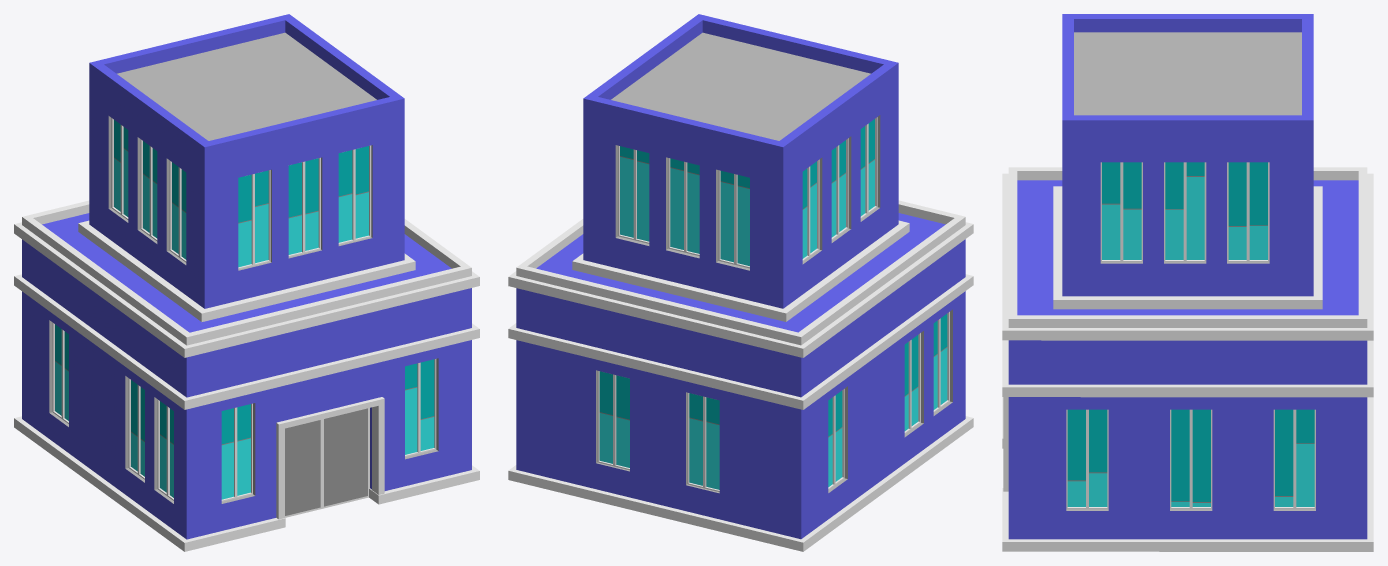
Rendered from SM_House_21_06.FBX.
The picture shows the model from 3 angles, left to right: view 1: azimuth 30°, elevation 25°; view 2: azimuth 150°, elevation 25°; view 3: azimuth 270°, elevation 25°; orthographic projection. The views are drawn at different scales.
Visible parts, largest first — view 1: SM_House_21_06; view 2: SM_House_21_06; view 3: SM_House_21_06.
Boxes of the visible parts, x1,y1,x2,y2 form: SM_House_21_06: (14,14,479,551); SM_House_21_06: (508,14,973,551); SM_House_21_06: (1002,14,1373,551).
Size of the model in its own units: 6.21 by 7.5 by 6.21.
1 material, 1 textured.
